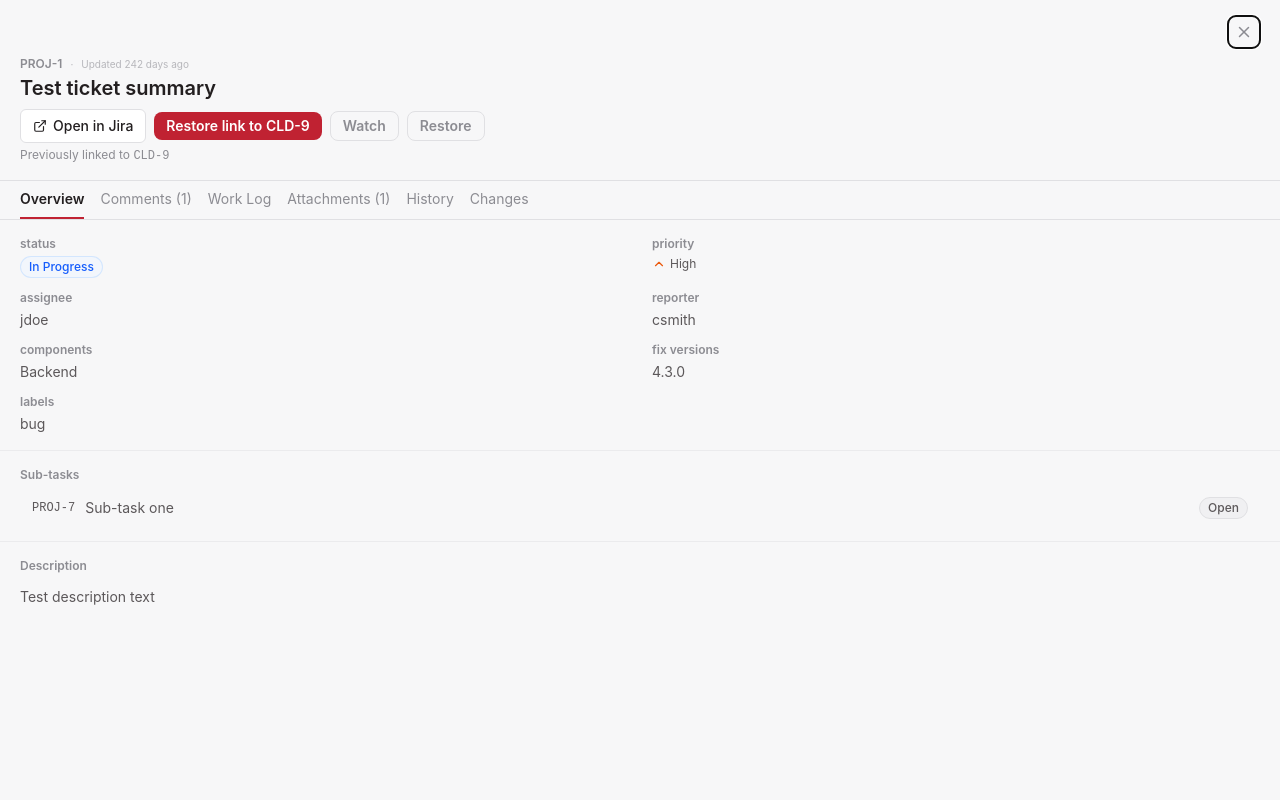
it: TicketDetailPanel › Phase 36 deny / link › Restore link failure toasts and refocuses the enabled button
The width and height of the screenshot is (1280, 800).
Click the button "Restore link to CLD-9".
click(238, 126)  # box [154,112,322,140]
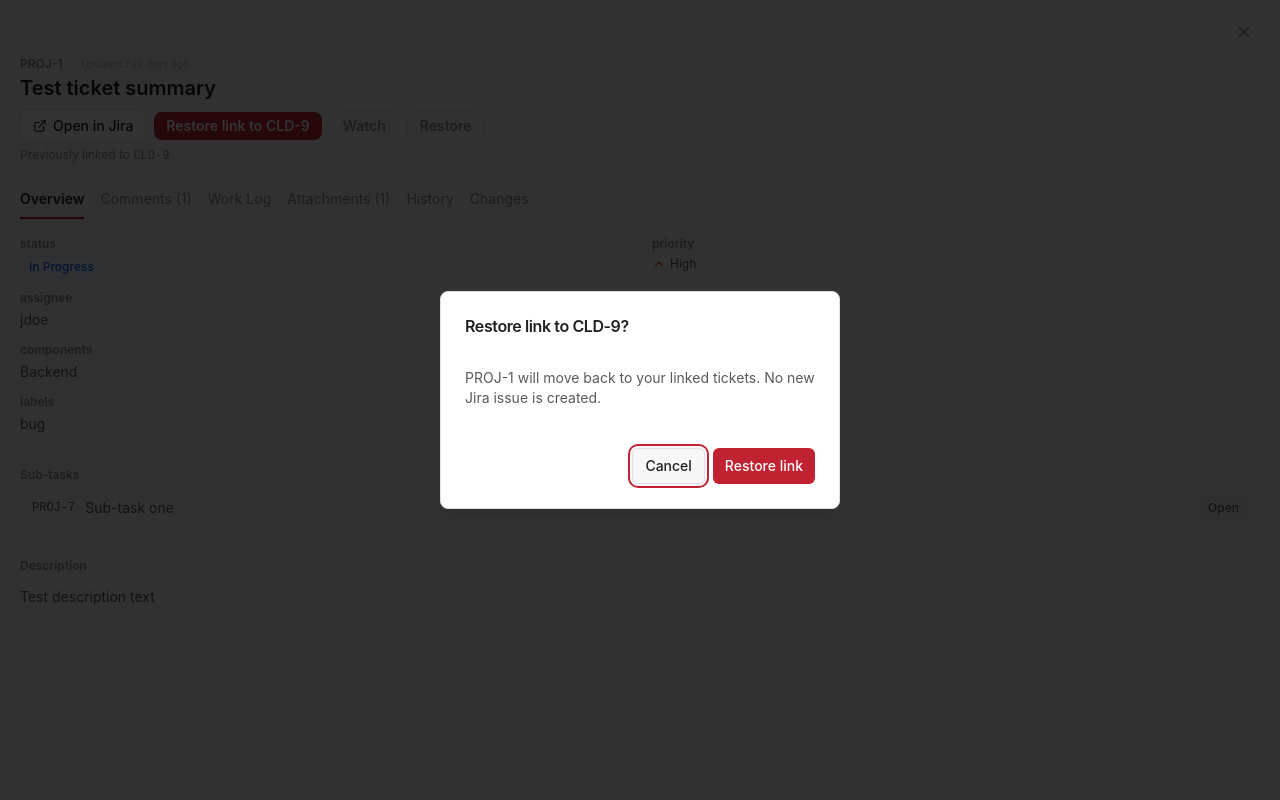
Click the button "Restore link".
click(764, 466)  # box [713,448,815,484]
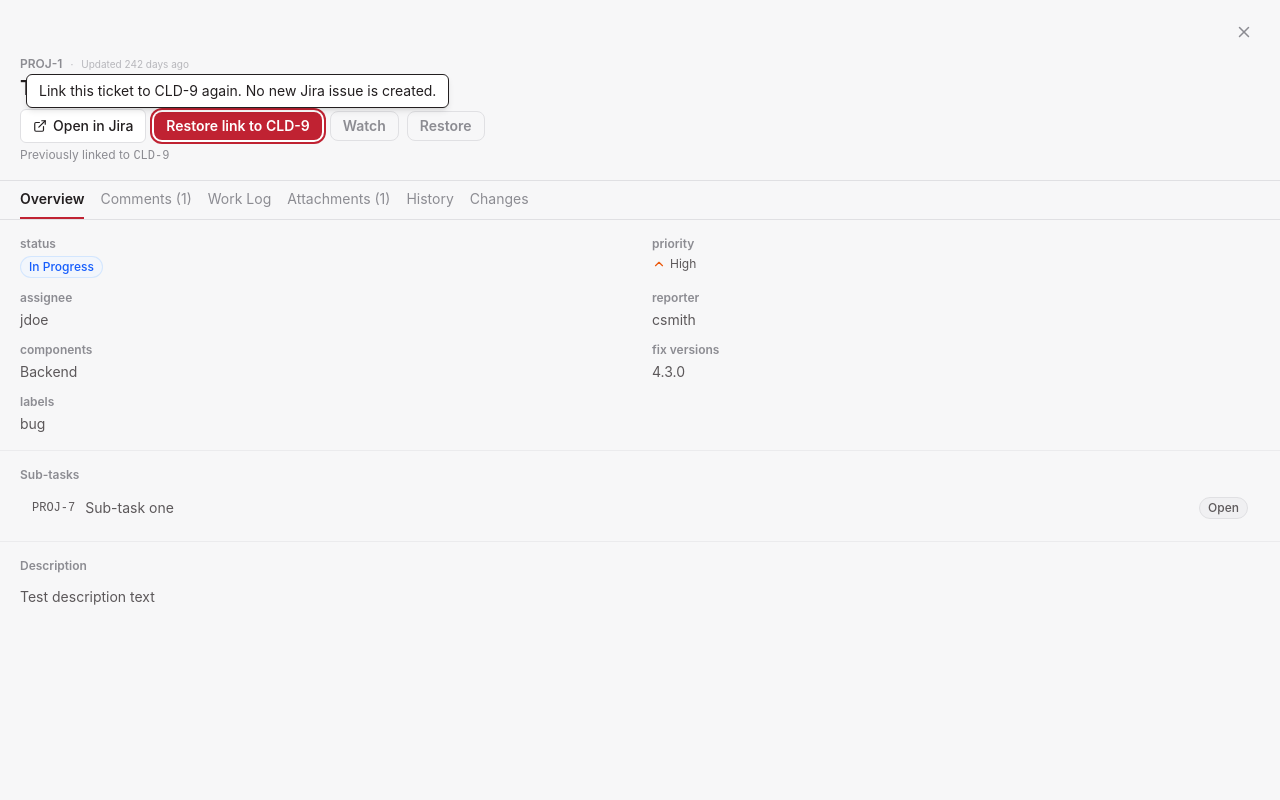
Expected: the button "Restore link to CLD-9" is enabled, [154,112,322,140]
Expected: the dialog is gone
